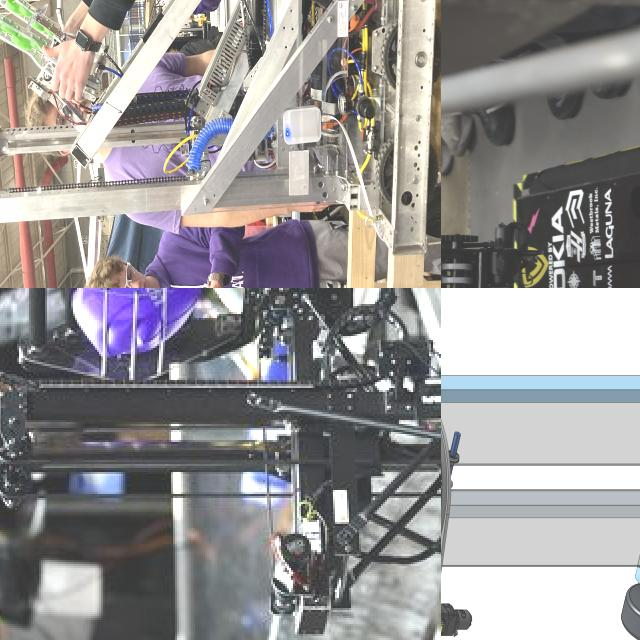FRC-Robots: (0, 288, 441, 640), (0, 0, 441, 288), (441, 288, 640, 640), (441, 120, 640, 288)
